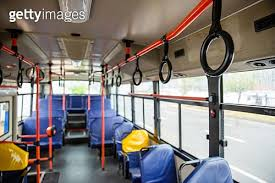seat: (92, 116, 116, 153)
